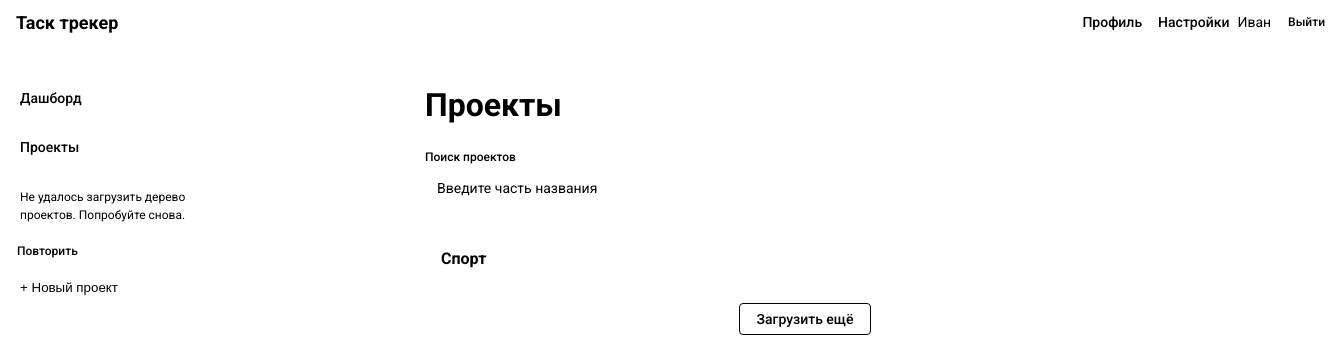
Test: BranchesPage › FE-02a и FE-11: догружает следующую страницу и не дублирует ветку
The width and height of the screenshot is (1342, 353).
Check: the link "Спорт" is shown, box left=441, top=249, right=486, bottom=268
Click the button "Загрузить ещё". click: (805, 319)
box: left=740, top=303, right=870, bottom=335
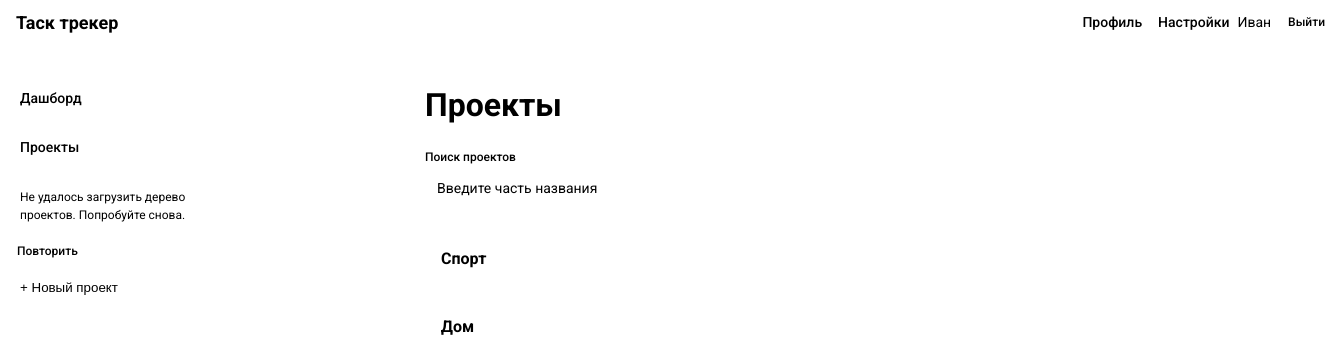
Check: the link "Дом" is shown, box left=441, top=317, right=474, bottom=336
Check: the number of links "Спорт" is 1, box left=441, top=249, right=486, bottom=268
